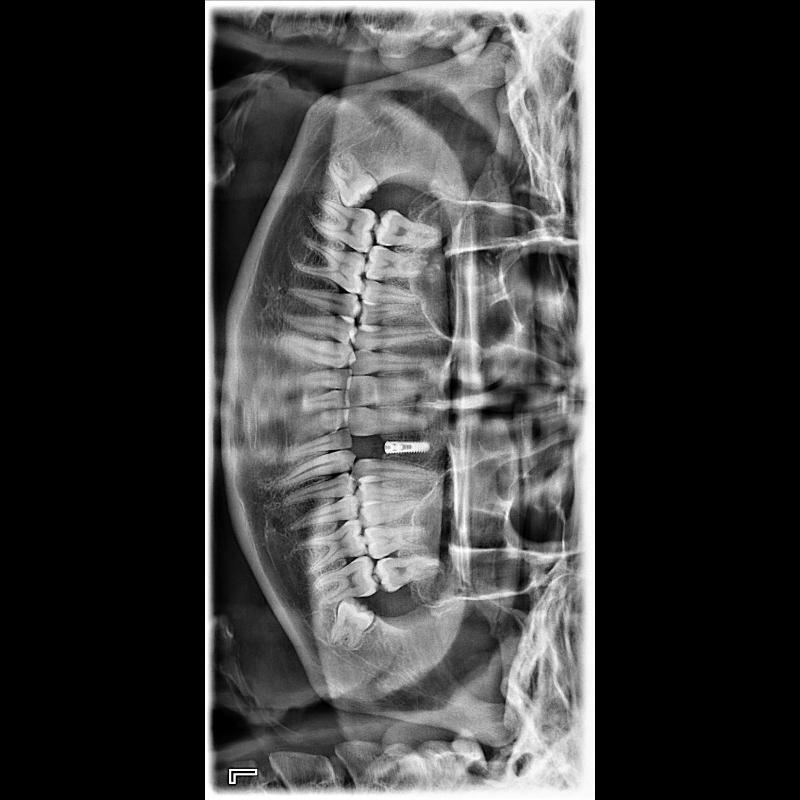osstem: (382, 437, 435, 457)
